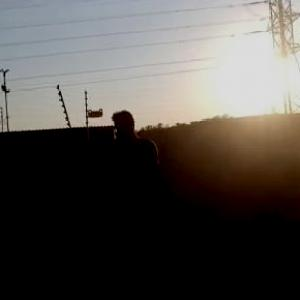follow: (104, 105, 167, 299)
